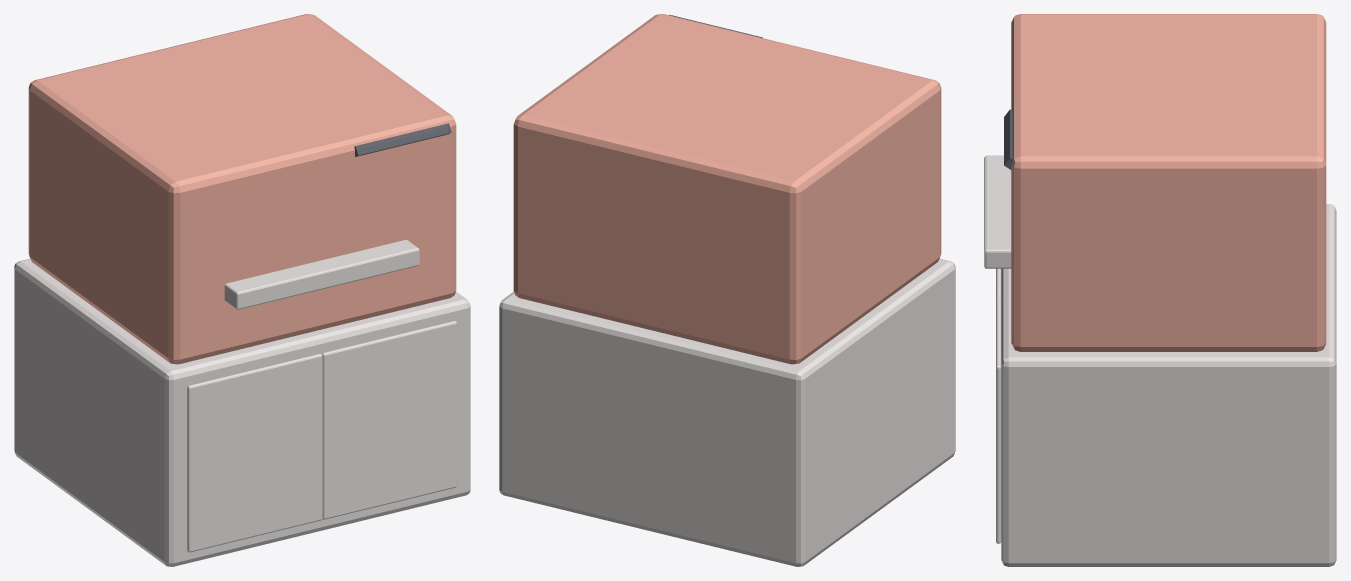
Rendered from print___utility_office_asset_library_54.glb.
3 views of the same model, side by side, from view 1: azimuth 30°, elevation 25°; view 2: azimuth 150°, elevation 25°; view 3: azimuth 270°, elevation 25° (orthographic). The views are drawn at different scales.
Visible parts, largest first — view 1: Cube; view 2: Cube; view 3: Cube.
Part boxes in pixels (x1,y1,x2,y2): Cube: (14,14,470,566); Cube: (499,14,955,566); Cube: (984,14,1336,566).
Size of the model in its own units: 0.72 by 0.8526 by 0.672.
